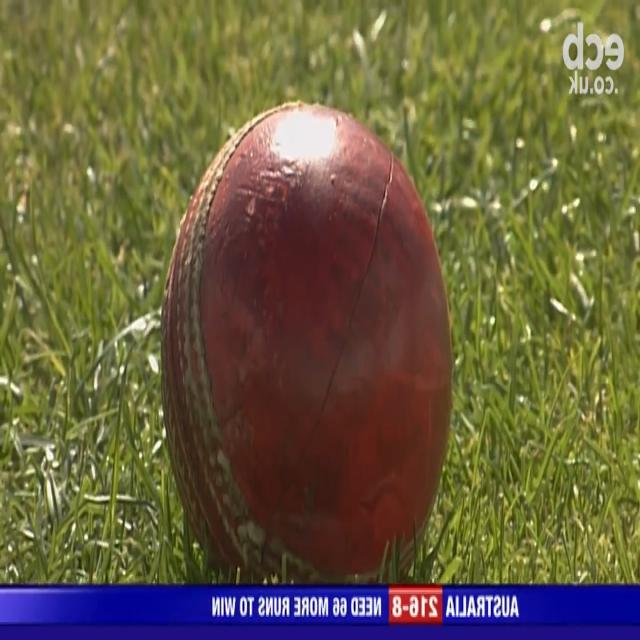ball: (159, 102, 453, 582)
